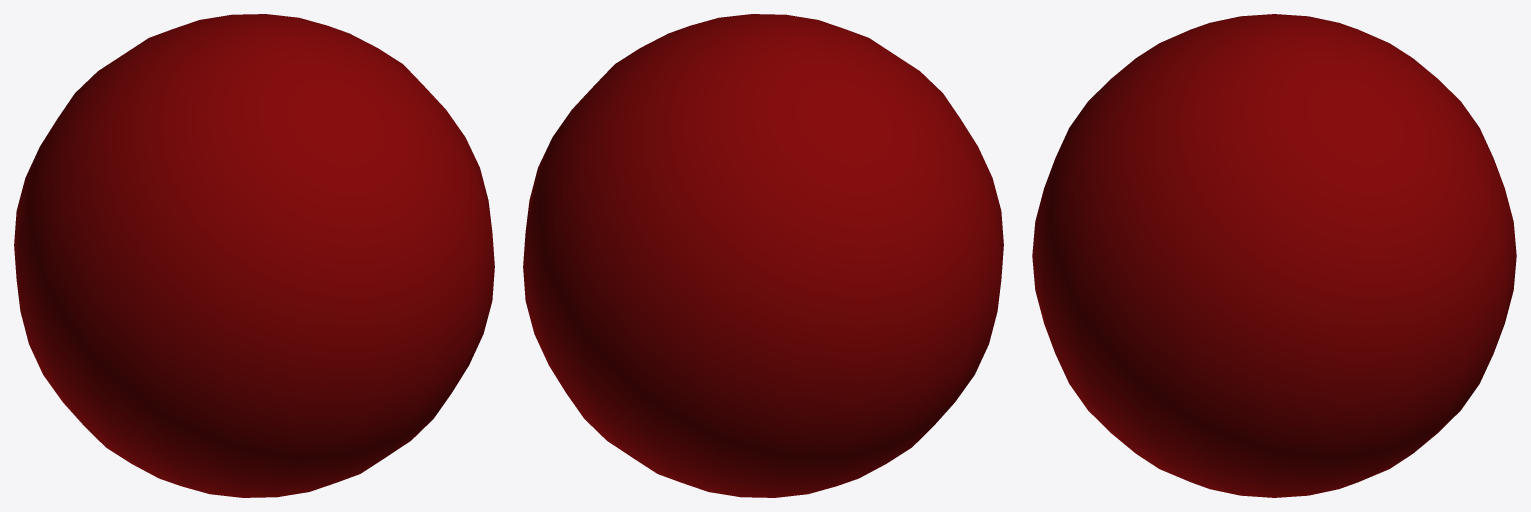
3 renders of one model, left to right at view 1: azimuth 30°, elevation 25°; view 2: azimuth 150°, elevation 25°; view 3: azimuth 270°, elevation 25°, orthographic.
Visible parts, largest first — view 1: Orbital_1S; view 2: Orbital_1S; view 3: Orbital_1S.
Boxes of the visible parts, x1,y1,x2,y2 form: Orbital_1S: (14,14,494,497); Orbital_1S: (523,14,1003,497); Orbital_1S: (1032,14,1516,497).
Bounding box in the file's own units: 26.39 × 26.38 × 26.38.
2 materials, 2 textured.
